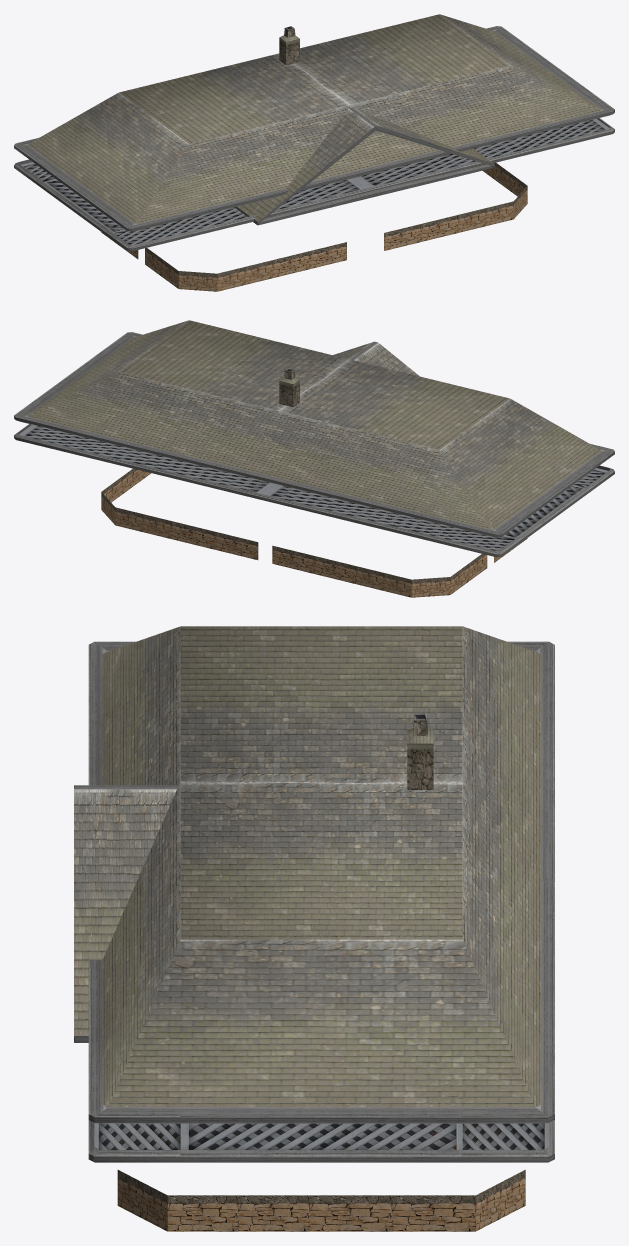
File: rural_woodenbuilding_4_rural_housetrim_1_0_lev2.glb
3 renders of one model, top to bottom at view 1: azimuth 30°, elevation 25°; view 2: azimuth 150°, elevation 25°; view 3: azimuth 270°, elevation 25°, orthographic. The views are drawn at different scales.
Parts seen in each view (by area): view 1: rural_woodenbuilding_4_rural_housetrim_1_0_lev2; view 2: rural_woodenbuilding_4_rural_housetrim_1_0_lev2; view 3: rural_woodenbuilding_4_rural_housetrim_1_0_lev2.
Part boxes in pixels (<box>): rural_woodenbuilding_4_rural_housetrim_1_0_lev2: <box>14,14,614,291</box>; rural_woodenbuilding_4_rural_housetrim_1_0_lev2: <box>14,320,614,597</box>; rural_woodenbuilding_4_rural_housetrim_1_0_lev2: <box>74,626,554,1231</box>.
Size of the model in its own units: 24.11 by 8.13 by 10.29.
1 material, 1 textured.
